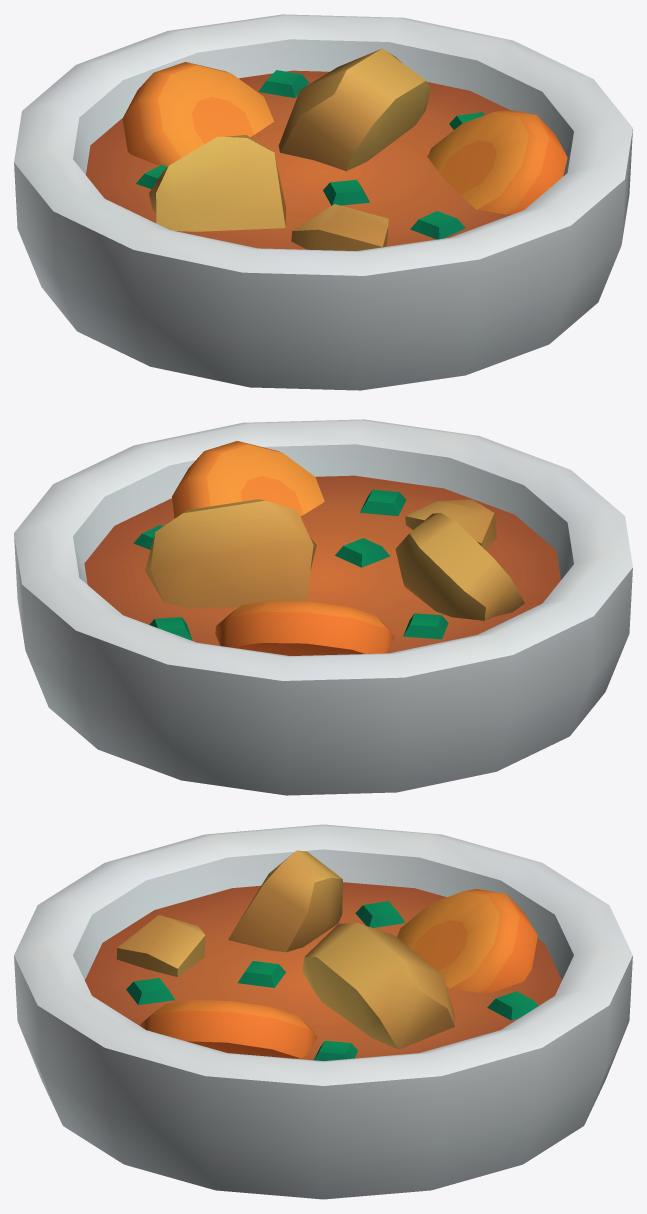
File: kaykit-restaurant-bits-food-stew.glb
3 views of the same model, one above another, from view 1: azimuth 30°, elevation 25°; view 2: azimuth 150°, elevation 25°; view 3: azimuth 270°, elevation 25° (orthographic).
Parts seen in each view (by area): view 1: food_stew; view 2: food_stew; view 3: food_stew.
Part boxes in pixels (x1,y1,x2,y2): food_stew: (14,14,632,390); food_stew: (14,419,632,795); food_stew: (14,824,632,1199).
Bounding box in the file's own units: 0.95 × 0.3697 × 0.95.
1 material, 1 textured.
